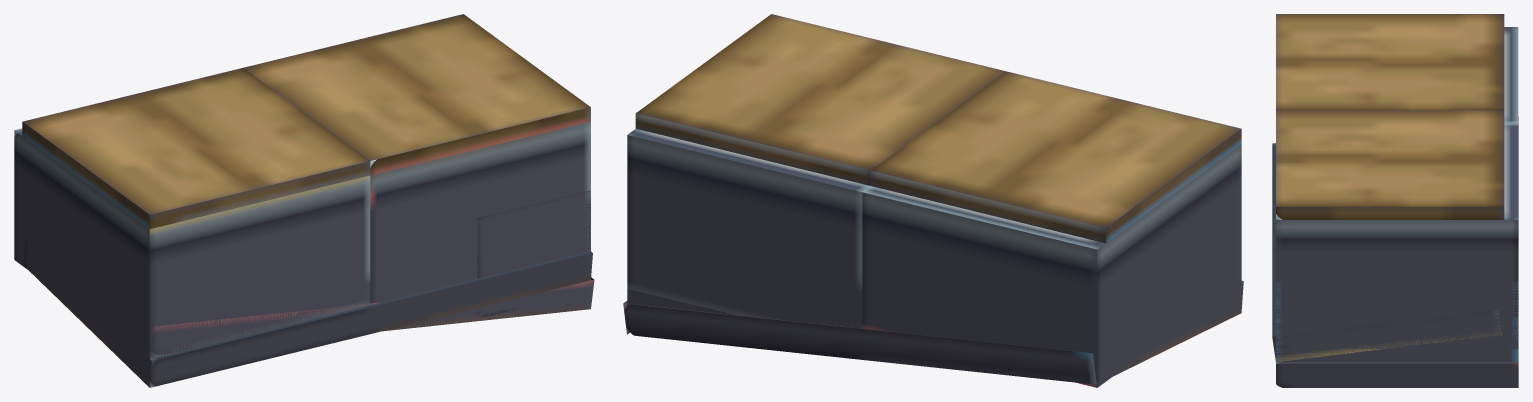
Rendered from freight_nx70_floor_connection.obj.
The picture shows the model from 3 angles, left to right: view 1: azimuth 30°, elevation 25°; view 2: azimuth 150°, elevation 25°; view 3: azimuth 270°, elevation 25°; orthographic projection. The views are drawn at different scales.
Parts seen in each view (by area): view 1: cube; view 2: cube; view 3: cube.
Boxes of the visible parts, box(x1,y1,x2,y2) form: cube: box(14, 14, 594, 387); cube: box(623, 14, 1243, 387); cube: box(1272, 14, 1518, 387).
Size of the model in its own units: 2.02 by 0.875 by 1.08.
